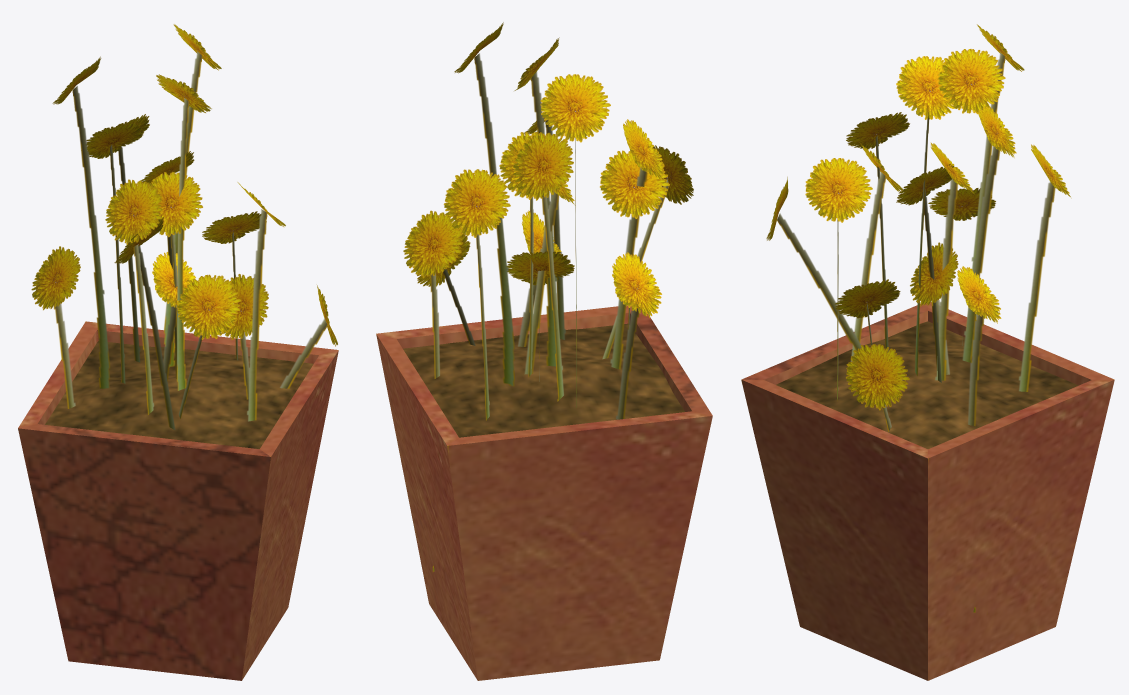
Rendered from flowers.glb.
The picture shows the model from 3 angles, left to right: view 1: azimuth 30°, elevation 25°; view 2: azimuth 150°, elevation 25°; view 3: azimuth 270°, elevation 25°; orthographic projection. The views are drawn at different scales.
Visible parts, largest first — view 1: Object001_02 - Default_0, Object001_01 - Default_0; view 2: Object001_02 - Default_0, Object001_01 - Default_0; view 3: Object001_02 - Default_0, Object001_01 - Default_0.
Boxes of the visible parts, bbox=[...] form: Object001_02 - Default_0: bbox=[18, 321, 338, 680]; Object001_01 - Default_0: bbox=[31, 24, 337, 429]; Object001_02 - Default_0: bbox=[376, 305, 712, 680]; Object001_01 - Default_0: bbox=[403, 22, 693, 576]; Object001_02 - Default_0: bbox=[741, 302, 1114, 680]; Object001_01 - Default_0: bbox=[766, 24, 1071, 612].
Bounding box in the file's own units: 24.07 × 41.99 × 24.07.
Materials: 2 (2 with a texture image).
